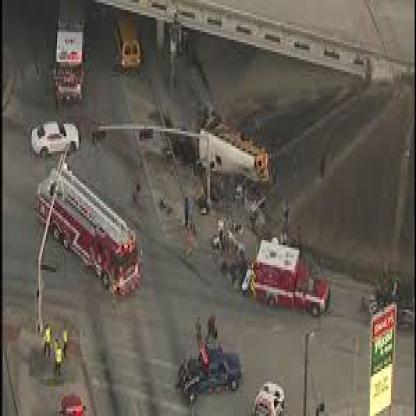accident: (174, 89, 296, 220)
